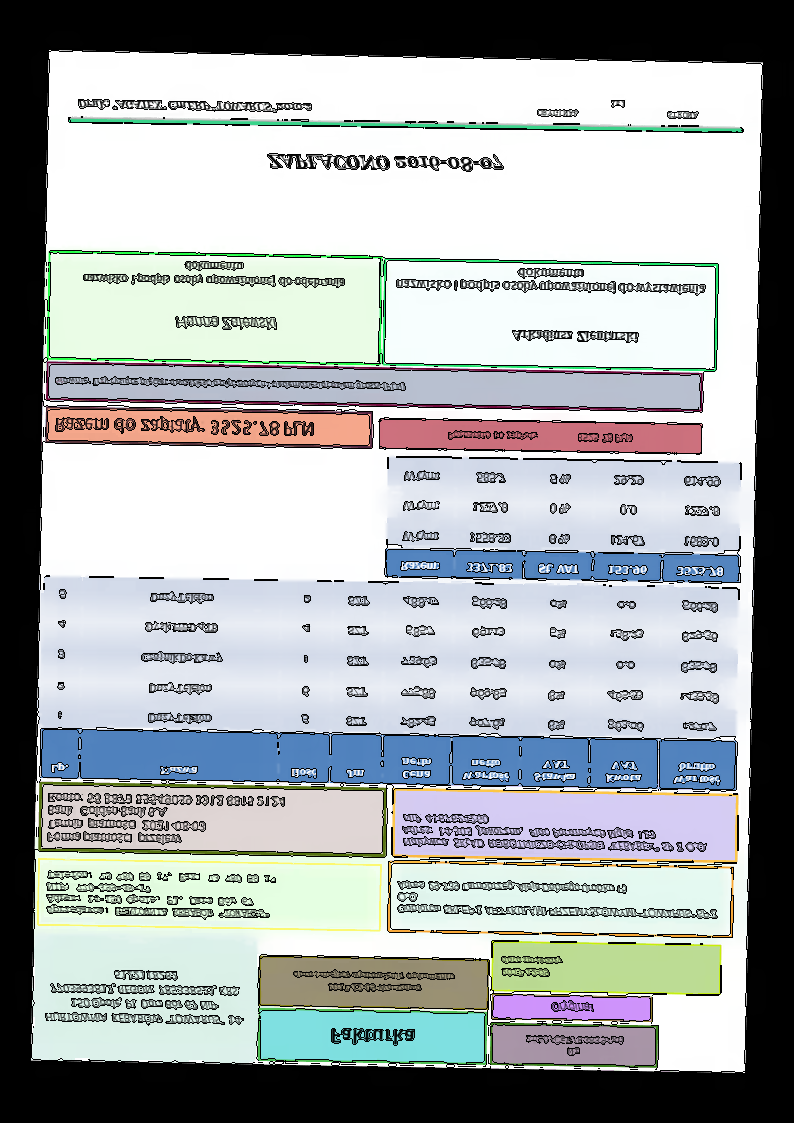Table: (39, 574, 741, 793), (383, 457, 743, 586)
TextBox: (393, 874, 721, 925), (397, 808, 711, 858), (43, 791, 288, 849), (41, 866, 279, 924), (42, 964, 248, 1030), (393, 264, 710, 302), (79, 256, 350, 294), (50, 372, 408, 397), (49, 413, 317, 445), (264, 146, 508, 180), (74, 93, 318, 117), (288, 967, 457, 1000), (534, 94, 700, 123), (442, 426, 638, 449), (523, 1031, 628, 1061), (170, 310, 279, 338), (510, 324, 642, 347), (325, 1025, 418, 1050), (498, 950, 565, 982), (548, 999, 597, 1017)
